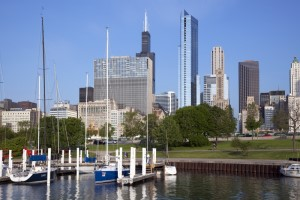willis: (136, 6, 156, 93)
